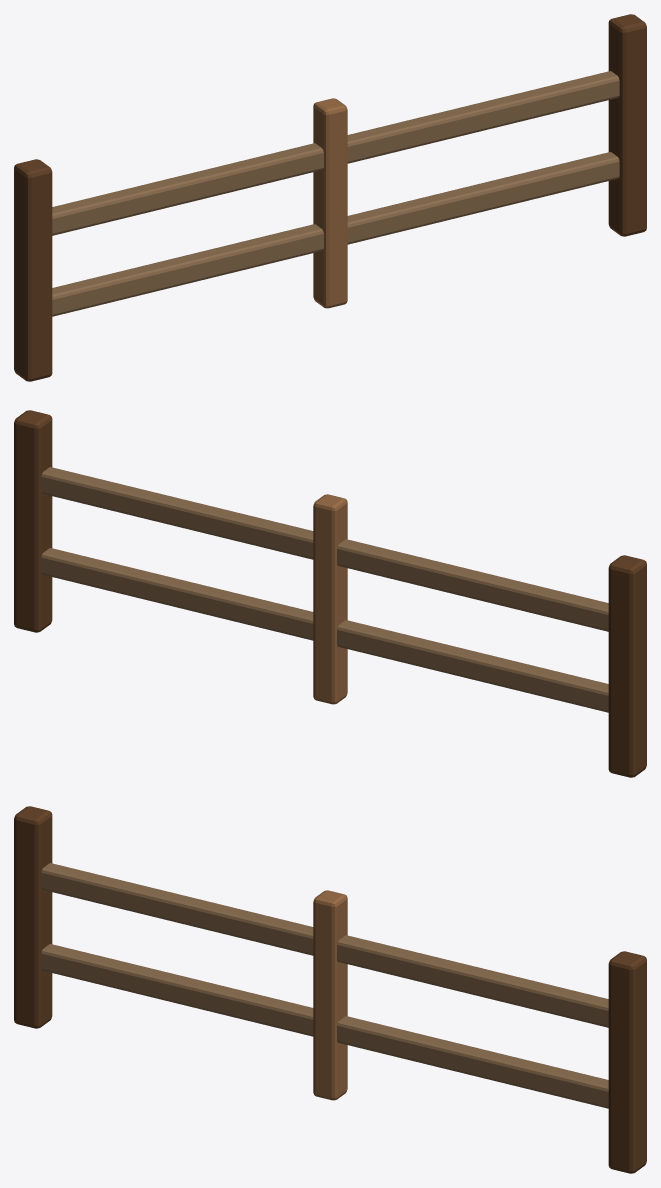
File: fence_4m.glb
3 views of the same model, one above another, from view 1: azimuth 30°, elevation 25°; view 2: azimuth 150°, elevation 25°; view 3: azimuth 330°, elevation 25° (orthographic).
Parts seen in each view (by area): view 1: fence_4m_rail_01, fence_4m_rail_02, fence_4m_left_post, fence_4m_right_post, fence_4m_center_post; view 2: fence_4m_rail_01, fence_4m_rail_02, fence_4m_left_post, fence_4m_right_post, fence_4m_center_post; view 3: fence_4m_rail_01, fence_4m_rail_02, fence_4m_right_post, fence_4m_left_post, fence_4m_center_post.
Part boxes in pixels (x1=…): fence_4m_rail_01: x1=52, y1=152, x2=619, y2=316; fence_4m_rail_02: x1=52, y1=71, x2=619, y2=235; fence_4m_left_post: x1=14, y1=159, x2=52, y2=381; fence_4m_right_post: x1=608, y1=14, x2=646, y2=236; fence_4m_center_post: x1=313, y1=98, x2=347, y2=308; fence_4m_rail_01: x1=41, y1=548, x2=608, y2=712; fence_4m_rail_02: x1=41, y1=467, x2=608, y2=631; fence_4m_left_post: x1=608, y1=555, x2=646, y2=777; fence_4m_right_post: x1=14, y1=410, x2=52, y2=632; fence_4m_center_post: x1=313, y1=494, x2=347, y2=704; fence_4m_rail_01: x1=41, y1=944, x2=608, y2=1108; fence_4m_rail_02: x1=41, y1=863, x2=608, y2=1027; fence_4m_right_post: x1=608, y1=951, x2=646, y2=1173; fence_4m_left_post: x1=14, y1=806, x2=52, y2=1028; fence_4m_center_post: x1=313, y1=890, x2=347, y2=1100.
Bounding box in the file's own units: 4.18 × 1.35 × 0.18.
